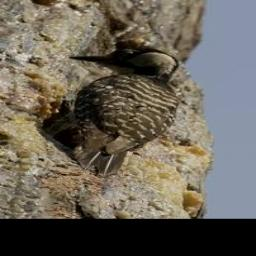Woodpecker: (39, 45, 181, 180)
